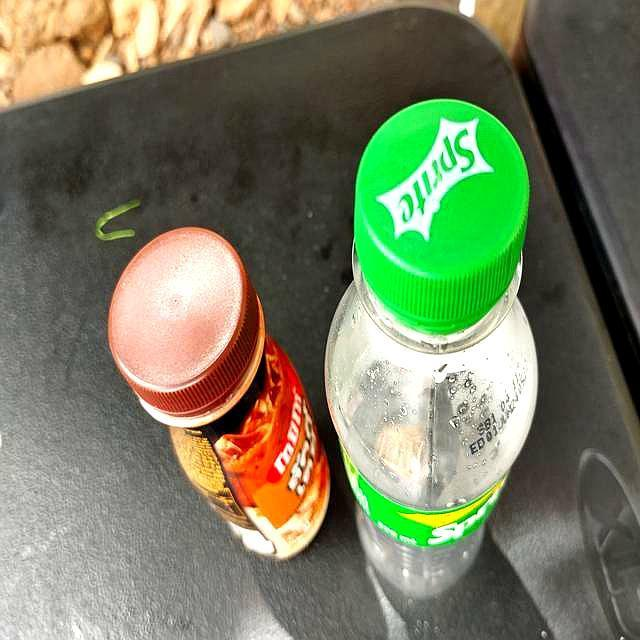Non-biodegradable: (323, 97, 543, 597), (109, 227, 329, 565)
